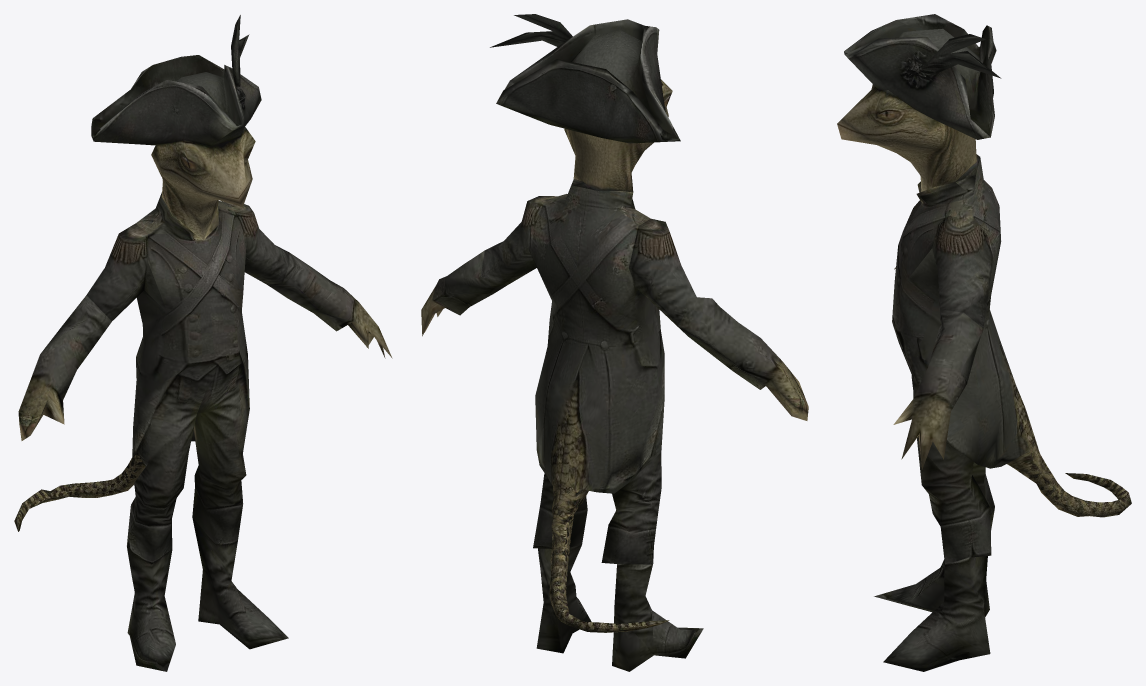
File: infantry_spd_gibs.glb
3 views of the same model, side by side, from view 1: azimuth 30°, elevation 25°; view 2: azimuth 150°, elevation 25°; view 3: azimuth 270°, elevation 25° (orthographic). The views are drawn at different scales.
Visible parts, largest first — view 1: Body.001, Hat.001, Head.001, Upleg.L.001, Upleg.R.001, Forarm.R.001, Leg.L.001, Leg.R.001, Forarm.L.001, Arm.R.001, Arm.L.001; view 2: Body.001, Hat.001, Forarm.R.001, Leg.R.001, Upleg.R.001, Arm.R.001, Head.001, Forarm.L.001, Arm.L.001, Leg.L.001, Upleg.L.001; view 3: Body.001, Hat.001, Head.001, Leg.L.001, Forarm.L.001, Upleg.L.001, Arm.L.001, Leg.R.001, Upleg.R.001.
Boxes of the visible parts, <box> form: Body.001: <box>14,192,249,531</box>; Hat.001: <box>91,15,261,146</box>; Head.001: <box>151,127,255,239</box>; Upleg.L.001: <box>192,407,249,544</box>; Upleg.R.001: <box>127,414,196,563</box>; Forarm.R.001: <box>18,295,111,440</box>; Leg.L.001: <box>192,517,288,649</box>; Leg.R.001: <box>127,546,175,671</box>; Forarm.L.001: <box>267,252,392,358</box>; Arm.R.001: <box>87,223,148,320</box>; Arm.L.001: <box>233,204,289,284</box>; Body.001: <box>529,181,669,632</box>; Hat.001: <box>490,14,680,143</box>; Forarm.R.001: <box>678,297,808,420</box>; Leg.R.001: <box>612,563,703,671</box>; Upleg.R.001: <box>601,400,664,564</box>; Arm.R.001: <box>629,218,696,333</box>; Head.001: <box>564,79,672,192</box>; Forarm.L.001: <box>421,250,506,336</box>; Arm.L.001: <box>480,196,556,284</box>; Leg.L.001: <box>536,545,591,653</box>; Upleg.L.001: <box>533,473,587,548</box>; Body.001: <box>892,157,1131,517</box>; Hat.001: <box>844,14,1001,139</box>; Head.001: <box>837,84,979,191</box>; Leg.L.001: <box>883,556,990,671</box>; Forarm.L.001: <box>893,309,983,469</box>; Upleg.L.001: <box>917,436,991,564</box>; Arm.L.001: <box>932,215,992,328</box>; Leg.R.001: <box>874,507,994,617</box>; Upleg.R.001: <box>911,377,994,514</box>.
Size of the model in its own units: 0.6184 by 0.9731 by 0.4107.
2 materials, 1 textured.
